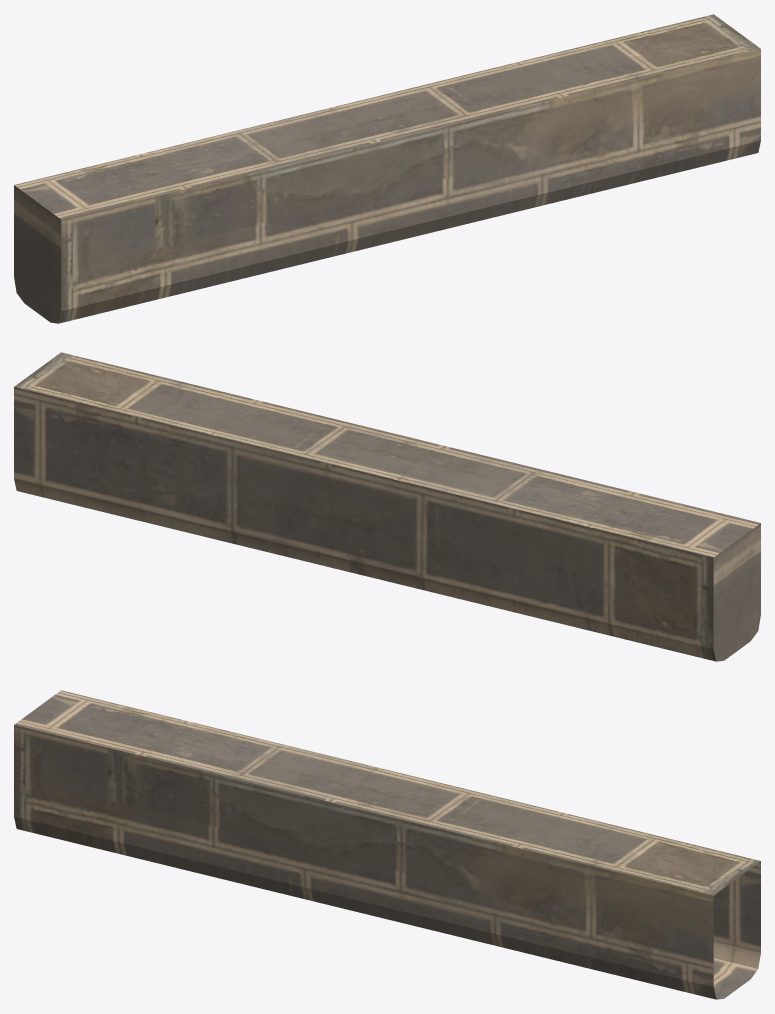
Rendered from Säule_dome_oben001.fbx.
3 views of the same model, one above another, from view 1: azimuth 30°, elevation 25°; view 2: azimuth 150°, elevation 25°; view 3: azimuth 330°, elevation 25° (orthographic).
Parts seen in each view (by area): view 1: Säule_Dome_Oben002; view 2: Säule_Dome_Oben002; view 3: Säule_Dome_Oben002.
Boxes of the visible parts, left/top/right/bottom form: Säule_Dome_Oben002: left=14, top=14, right=760, bottom=323; Säule_Dome_Oben002: left=14, top=352, right=760, bottom=661; Säule_Dome_Oben002: left=14, top=690, right=760, bottom=999.
Size of the model in its own units: 600 by 90.77 by 70.09.
